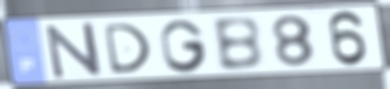6: (326, 10, 369, 68)
8: (270, 14, 318, 69)
B: (209, 15, 267, 73)
D: (101, 21, 154, 76)
G: (158, 18, 211, 74)
N: (43, 20, 105, 81)
